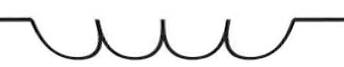inductor: (15, 0, 317, 59)
